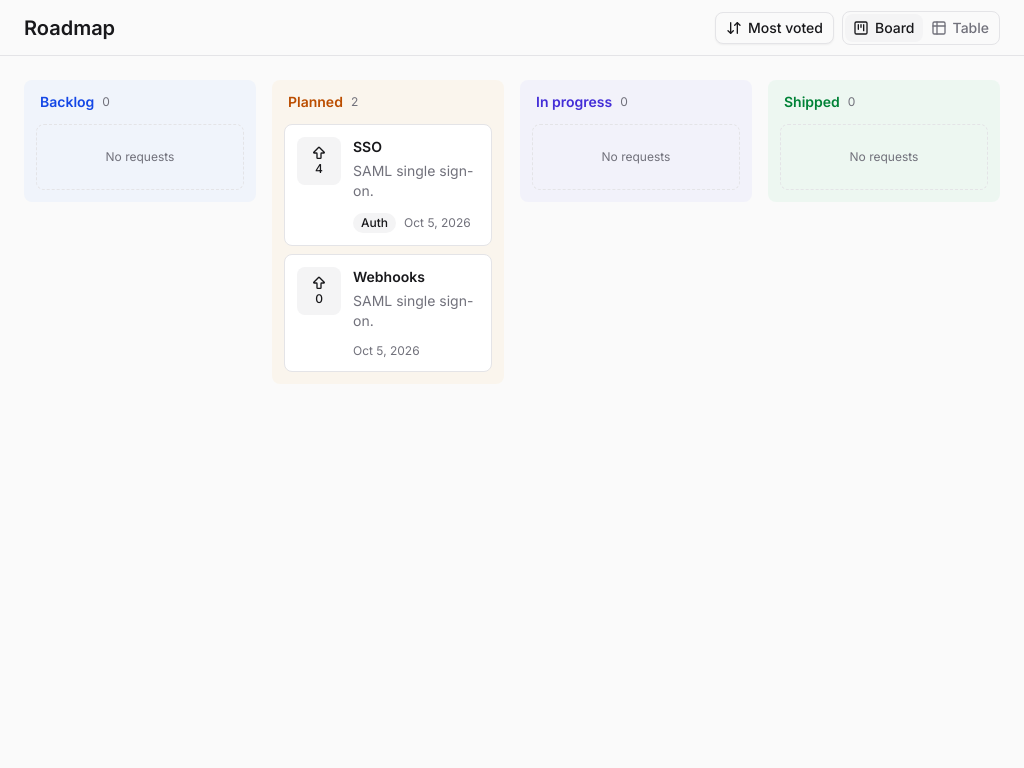
says a request without an author was added by the team
The width and height of the screenshot is (1024, 768).
Click the button "Webhooks".
click(388, 313)  # box [284,254,492,372]
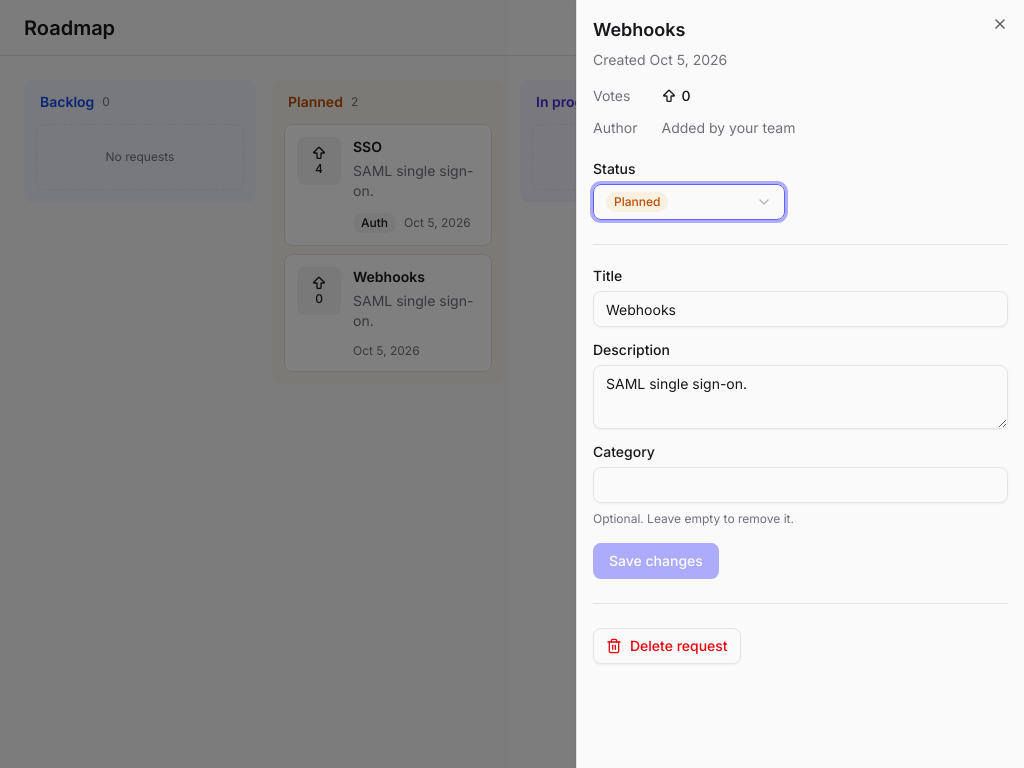
Check: the field labelled "Category" is empty, box [593,467,1008,503]
Check: the text "Added by your team" is shown, box [662,119,795,136]
Check: the button "Save changes" is disabled, box [593,543,719,579]
